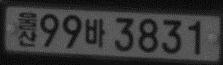1: (185, 20, 206, 55)
3: (161, 18, 182, 55), (113, 16, 134, 52)
8: (138, 17, 158, 52)
9: (61, 14, 82, 49), (39, 13, 59, 47)
바: (84, 17, 105, 48)
울산_V: (17, 11, 37, 47)
